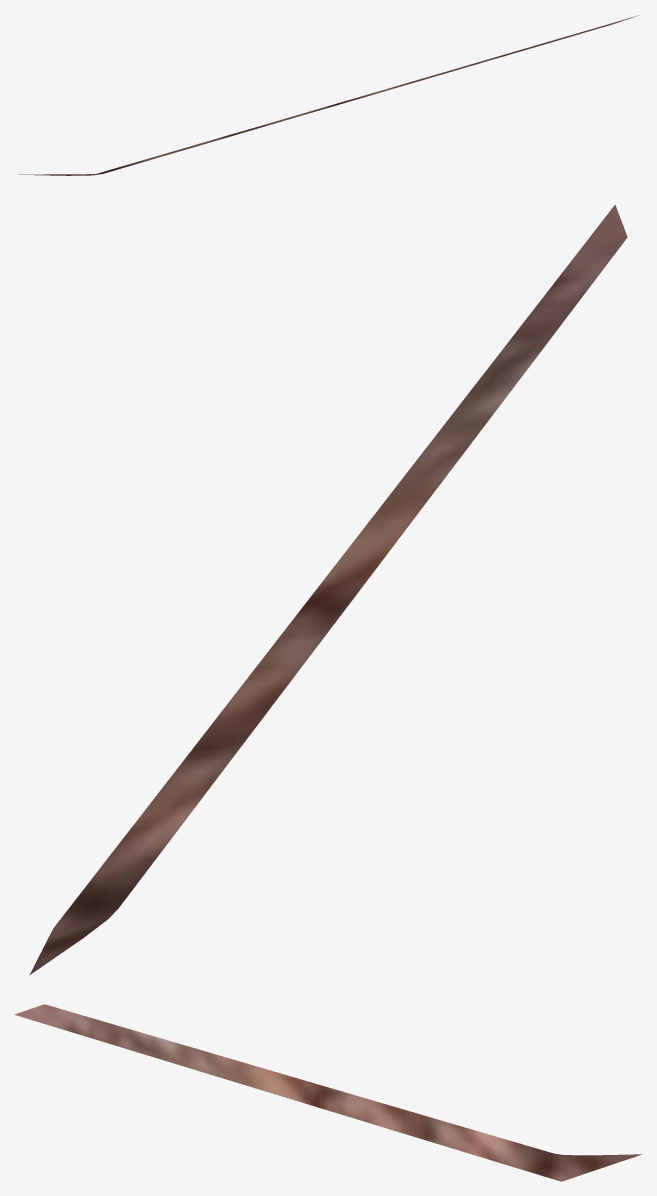
3 renders of one model, top to bottom at view 1: azimuth 90°, elevation 25°; view 2: azimuth 150°, elevation 25°; view 3: azimuth 270°, elevation 25°, orthographic. The views are drawn at different scales.
Size of the model in its own units: 0.0672 by 0.3642 by 1.27.
Materials: 1 (1 with a texture image).
